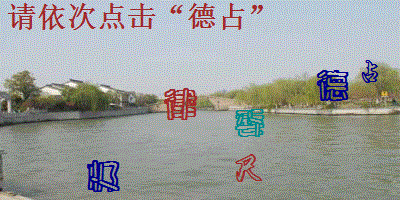result: (187, 2, 246, 33)
text: (84, 158, 123, 195), (163, 87, 199, 122), (316, 68, 351, 103), (233, 106, 267, 140), (234, 153, 264, 184), (360, 57, 381, 84)
